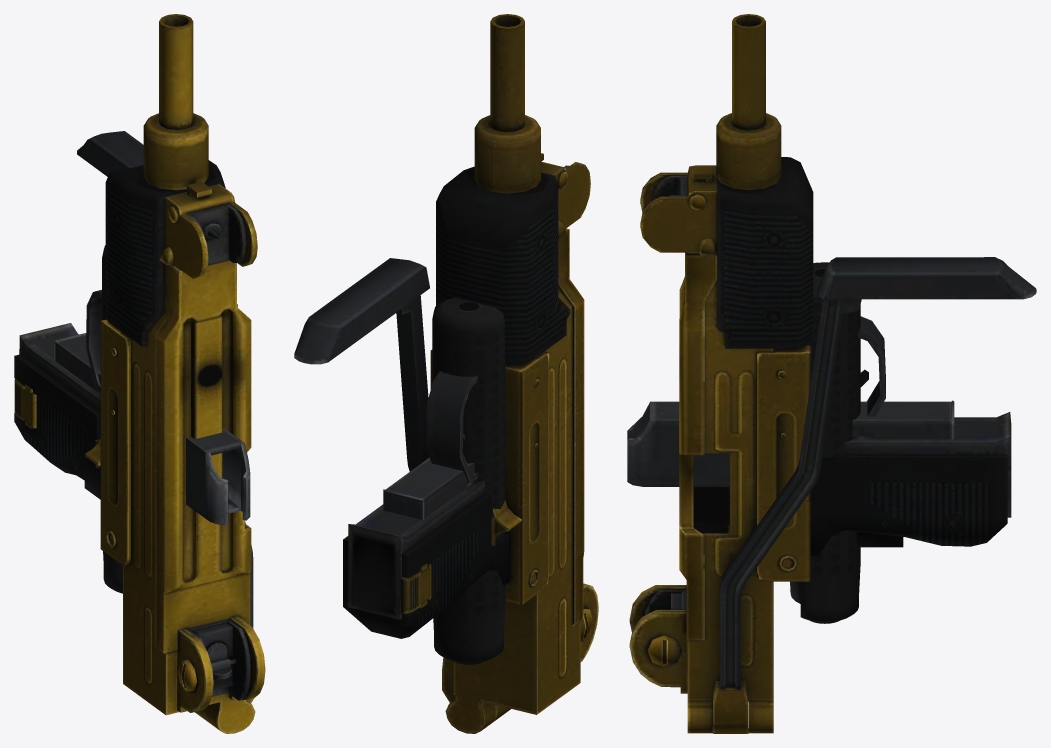
The model's file is Dual_Uzi_Mini_Gold.obj.
3 views of the same model, side by side, from view 1: azimuth 30°, elevation 25°; view 2: azimuth 150°, elevation 25°; view 3: azimuth 270°, elevation 25° (orthographic). The views are drawn at different scales.
Visible parts, largest first — view 1: Model_Uzi_2, Model_Magazine, Model_Silencer; view 2: Model_Uzi_2, Model_Silencer, Model_Magazine; view 3: Model_Uzi_2, Model_Silencer, Model_Magazine.
Boxes of the visible parts, bbox=[...] form: Model_Uzi_2: bbox=[14, 14, 265, 733]; Model_Magazine: bbox=[54, 333, 250, 524]; Model_Silencer: bbox=[102, 245, 122, 593]; Model_Uzi_2: bbox=[294, 14, 598, 733]; Model_Silencer: bbox=[432, 297, 505, 664]; Model_Magazine: bbox=[383, 457, 474, 519]; Model_Uzi_2: bbox=[629, 14, 1036, 733]; Model_Silencer: bbox=[790, 262, 860, 623]; Model_Magazine: bbox=[627, 400, 954, 486].
Size of the model in its own units: 0.0656 by 0.3693 by 0.1971.
Materials: 2 (2 with a texture image).
